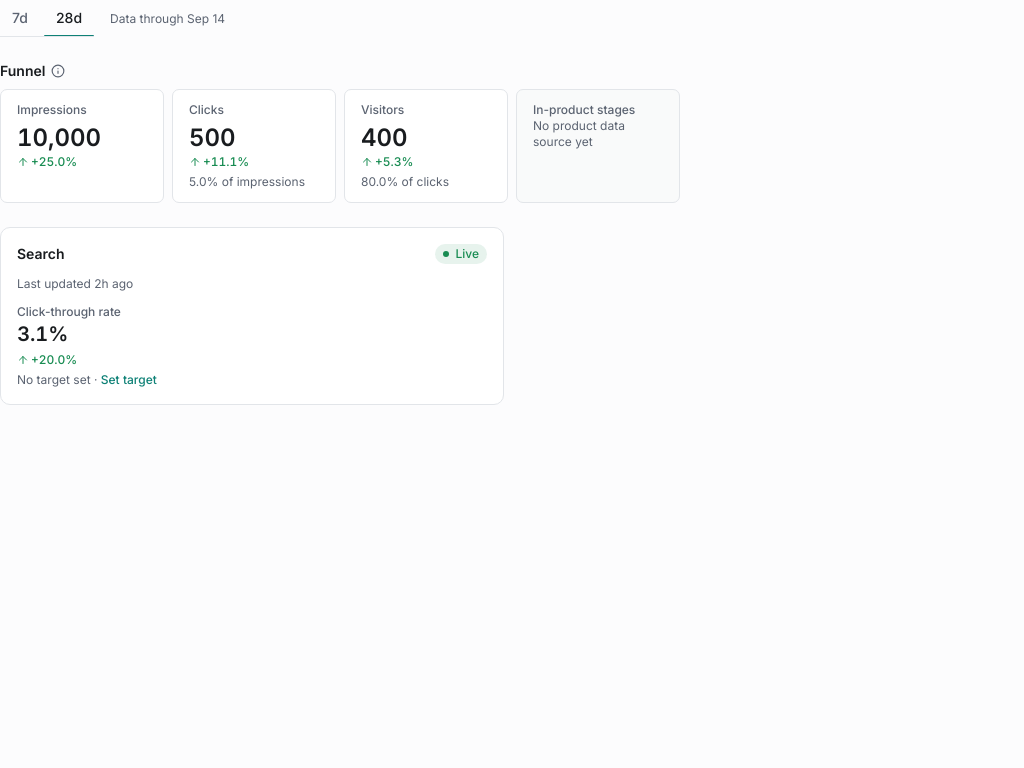
OverviewPanel › saves a target optimistically, converting percent input to a fraction
Step 1. Click the button with aria-label "Set target for Click-through rate" → [129, 380], box 101,372 -> 157,388
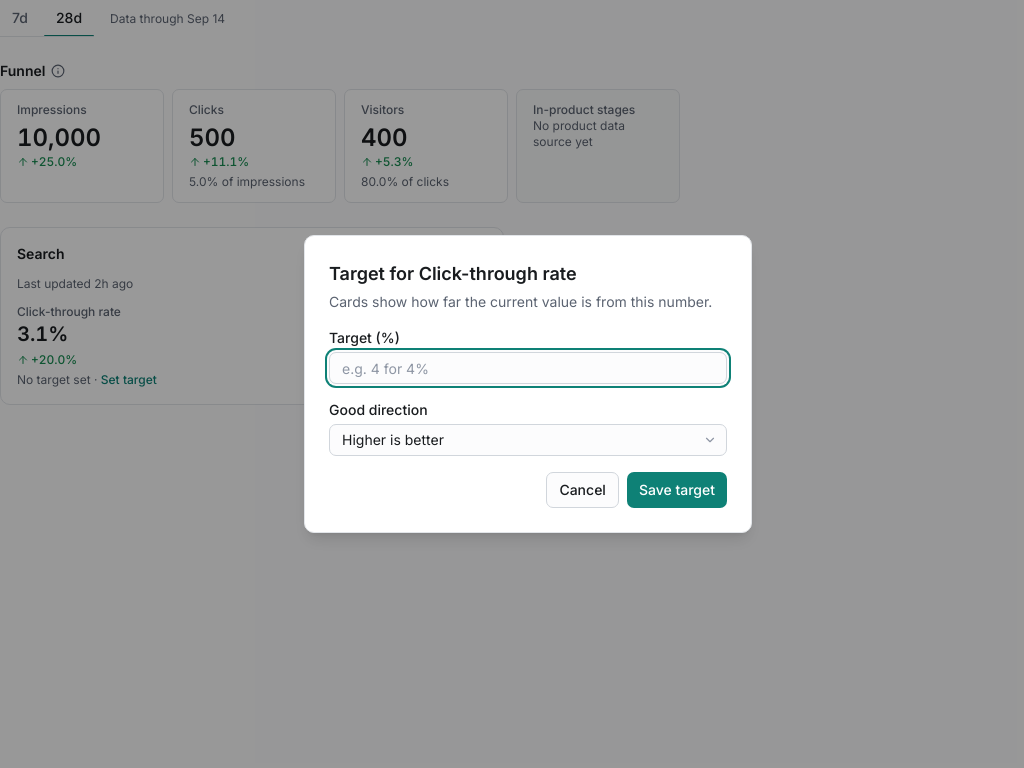
Step 2. Type "4" into the field labelled "Target (%)" → [528, 368], box 329,352 -> 727,384
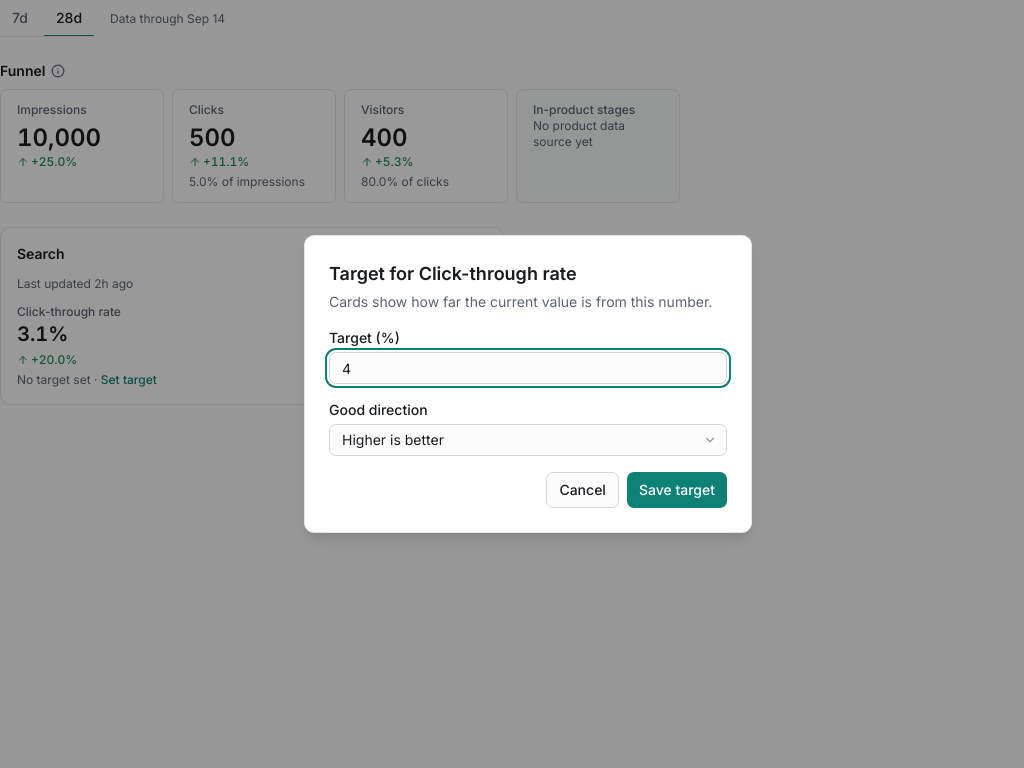
Step 3. Click the button "Save target" → [677, 490], box 627,472 -> 727,508
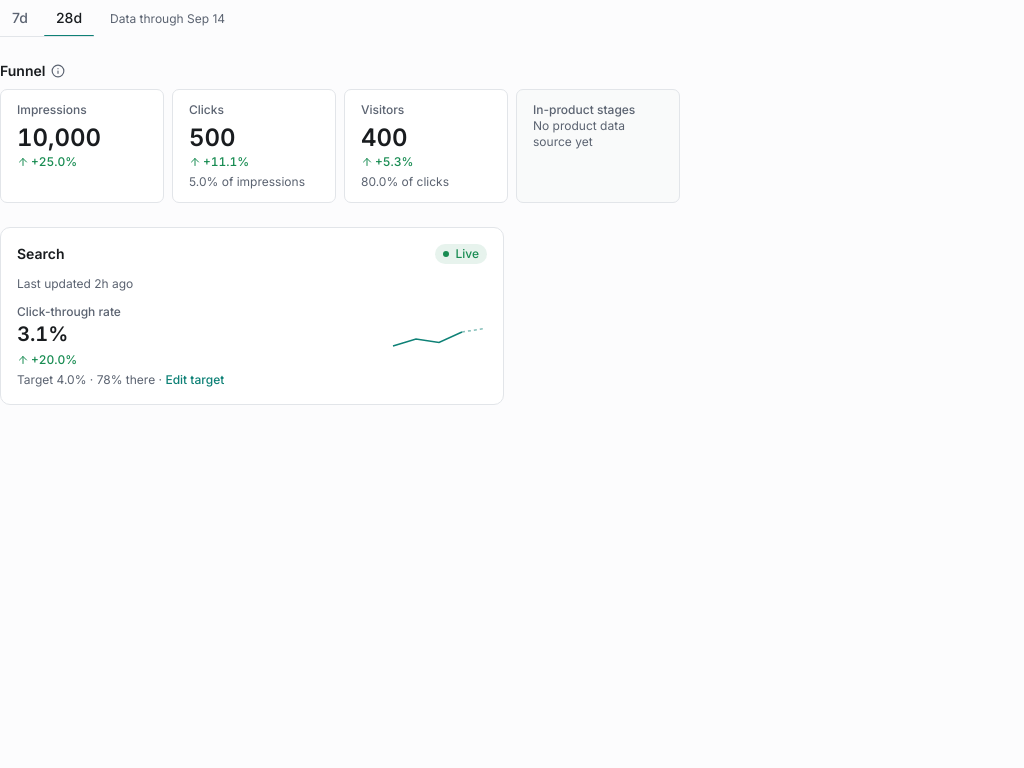
Result: the text "Target 4.0% · 78% there · Edit target" is shown at 17,372 -> 224,388
